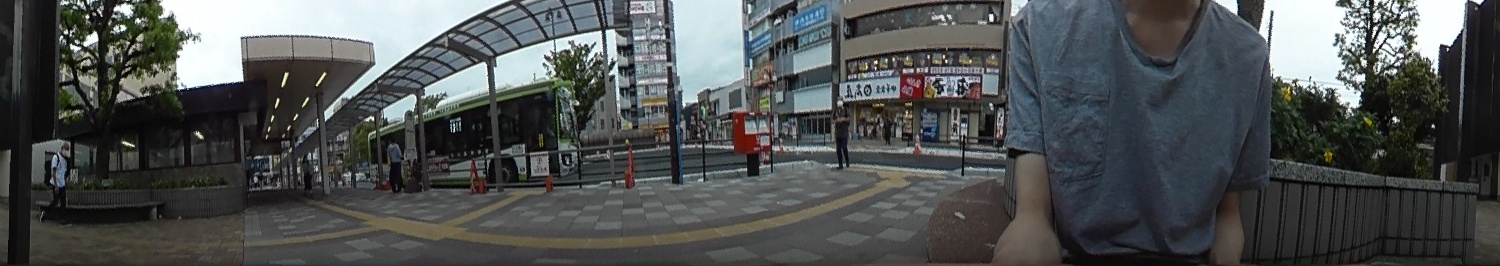difficult_person: (300, 153, 314, 196), (882, 115, 892, 144)
person: (45, 140, 72, 227), (831, 95, 851, 171), (386, 136, 404, 194)
